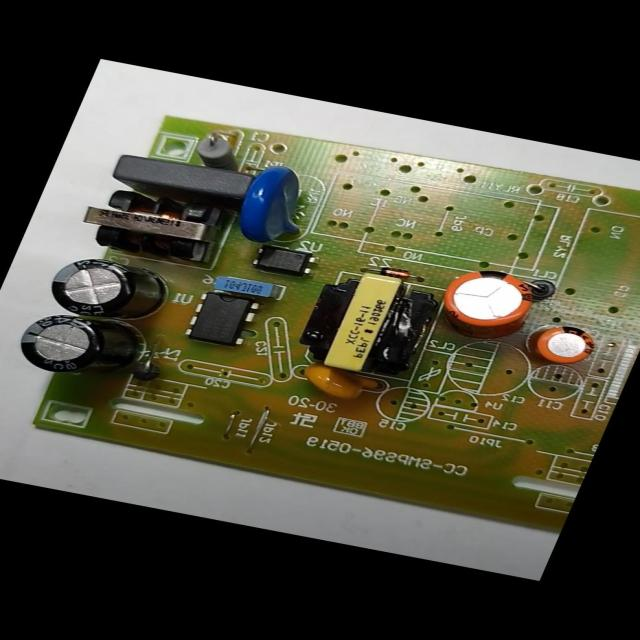Cap1: (431, 263, 548, 337)
Cap2: (524, 321, 602, 369)
Cap3: (38, 250, 175, 330)
Cap4: (8, 306, 159, 388)
MOSFET: (179, 288, 265, 348)
Mov: (224, 160, 330, 251)
Resistor: (187, 133, 255, 174)
Transformer: (288, 265, 444, 381), (67, 179, 227, 264)
